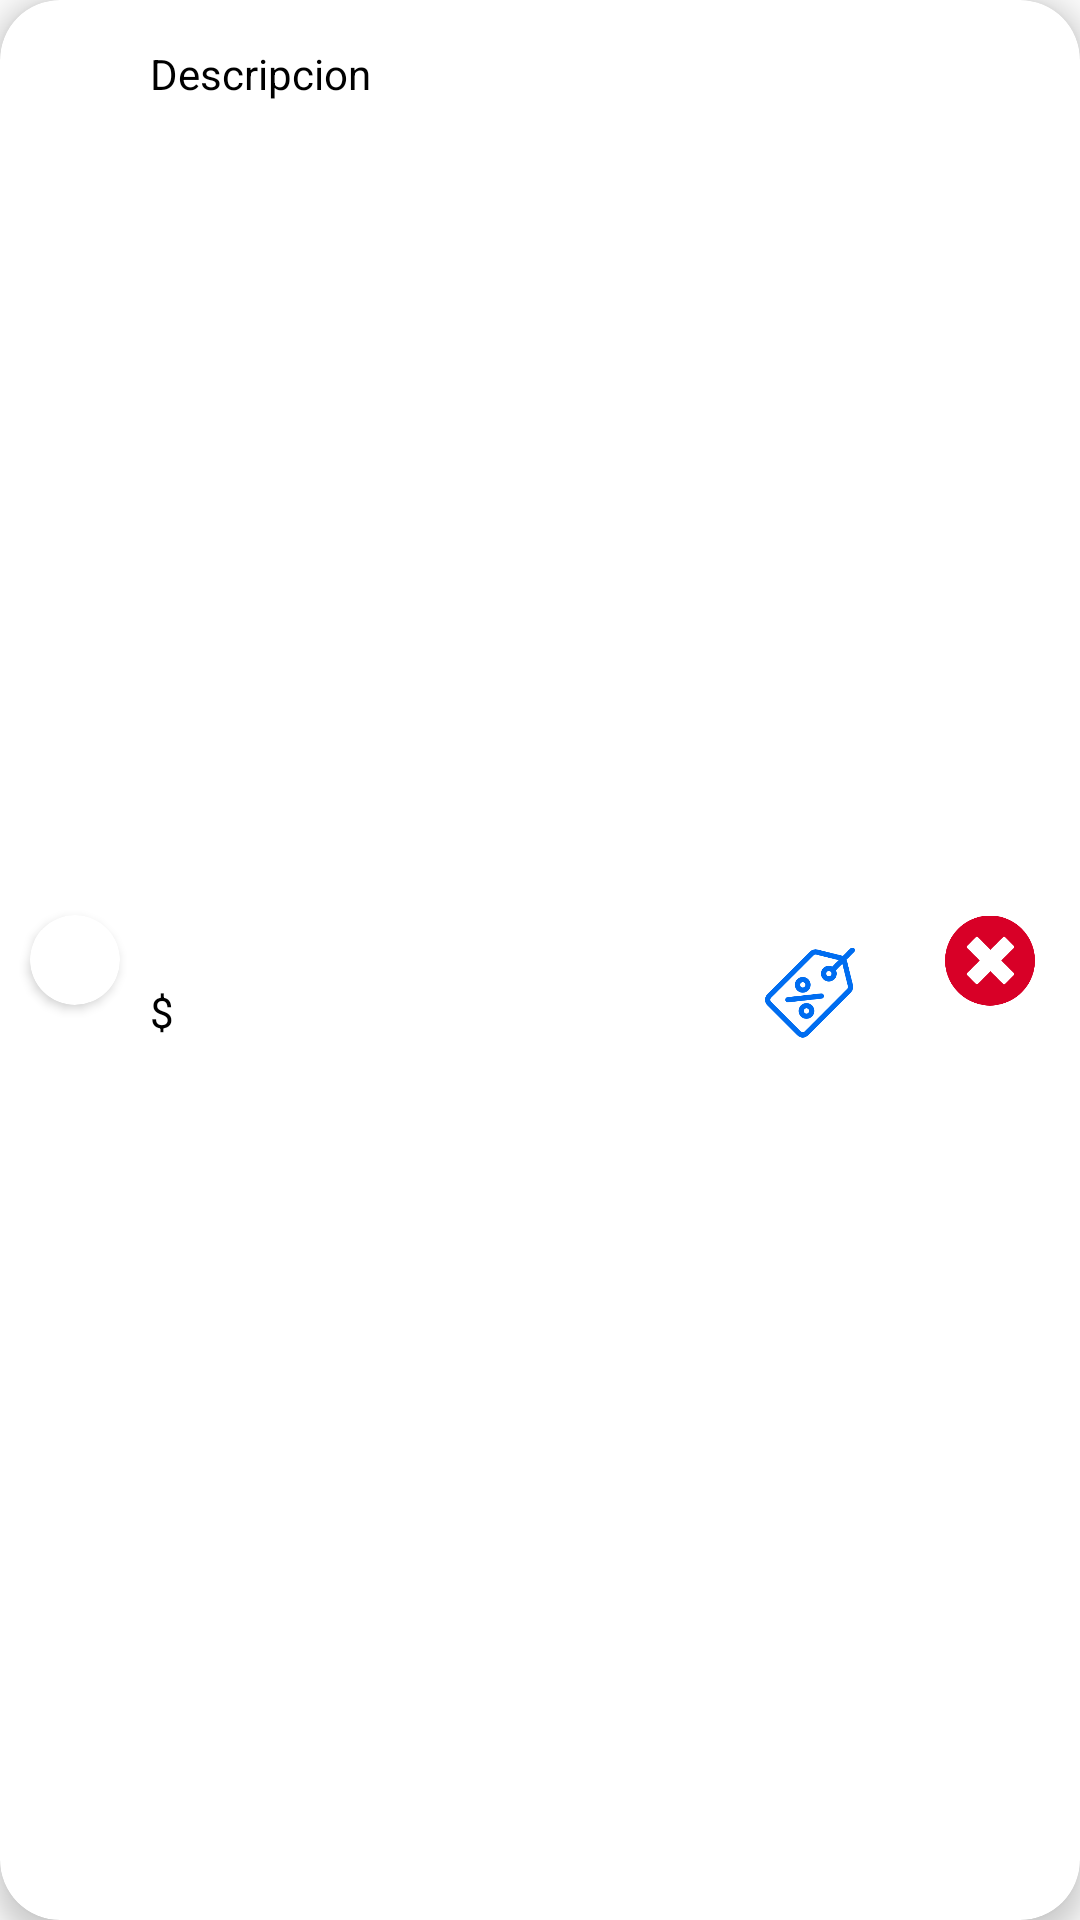

Icons on this 1080*1920 Android screen, each with the point to tap as (x,y):
cancel: (990,961)
tag: (810,993)
